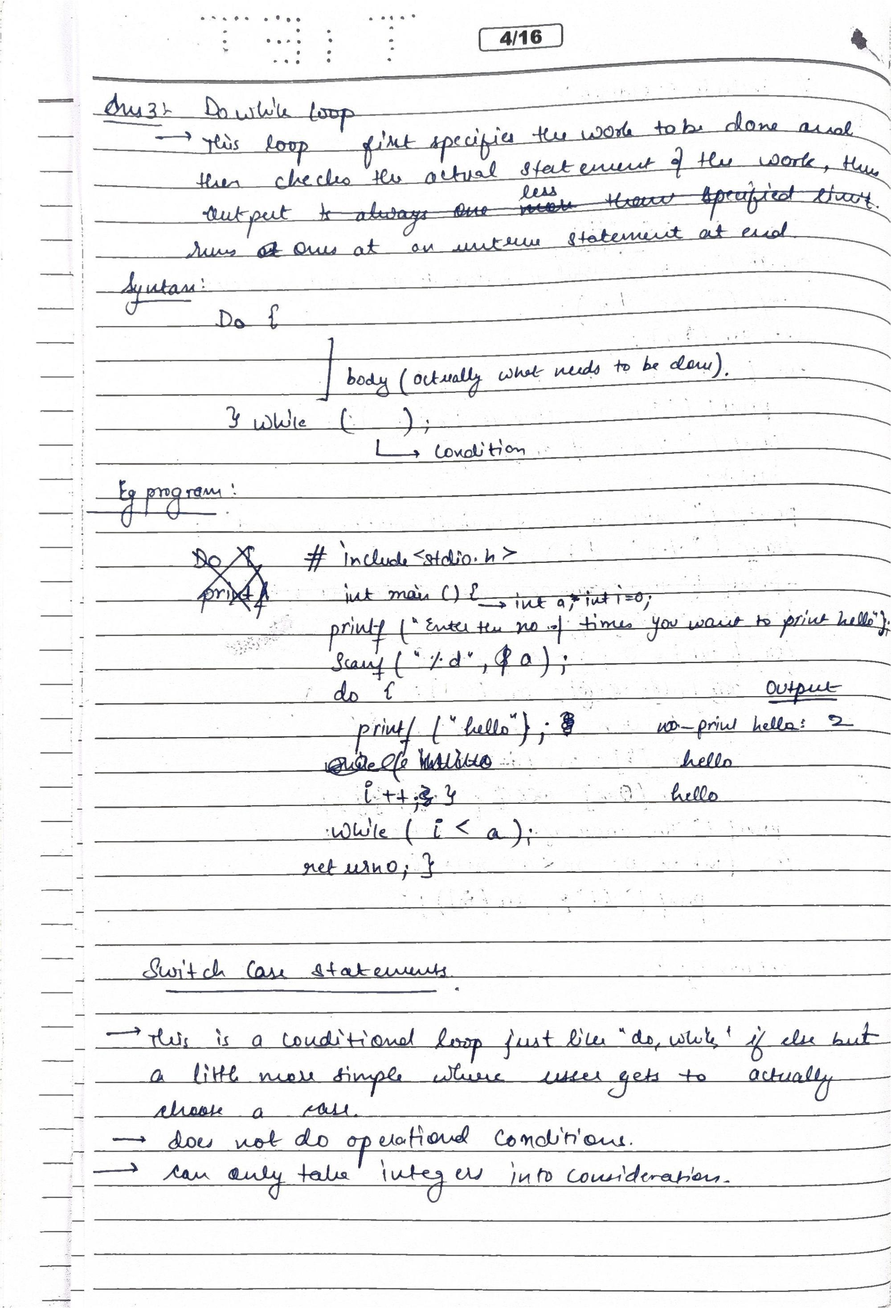cuttings: (315, 178, 877, 238), (321, 744, 496, 785), (188, 542, 274, 622), (553, 708, 579, 739), (255, 240, 286, 260), (418, 783, 435, 809)
